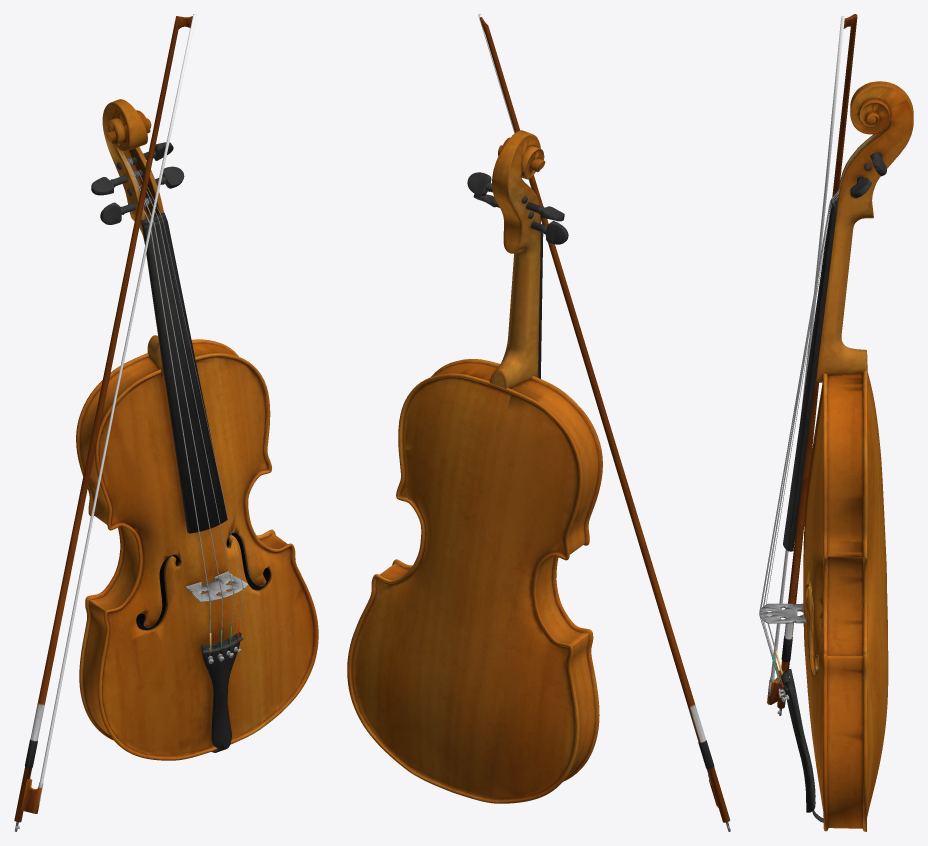
File: optimized_violin.glb
3 views of the same model, side by side, from view 1: azimuth 30°, elevation 25°; view 2: azimuth 150°, elevation 25°; view 3: azimuth 270°, elevation 25° (orthographic). The views are drawn at different scales.
Parts seen in each view (by area): view 1: Object_6; view 2: Object_6; view 3: Object_6.
Part boxes in pixels (x1=…): Object_6: x1=14, y1=14, x2=318, y2=831; Object_6: x1=347, y1=14, x2=730, y2=831; Object_6: x1=759, y1=14, x2=913, y2=831.
Bounding box in the file's own units: 19.5 × 42.89 × 7.44.
Materials: 1 (1 with a texture image).
